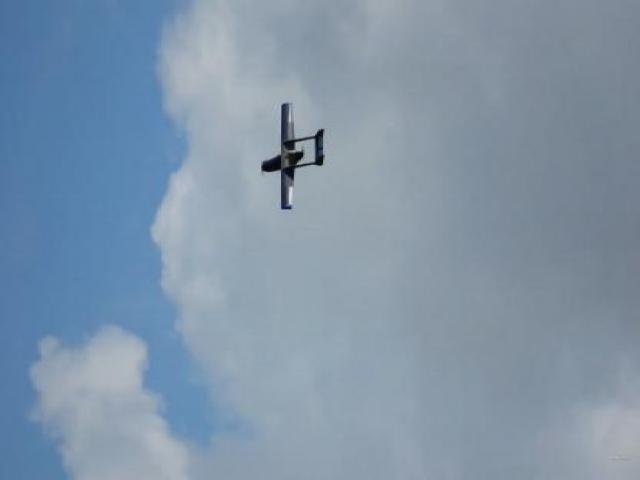uav: (260, 99, 328, 213)
